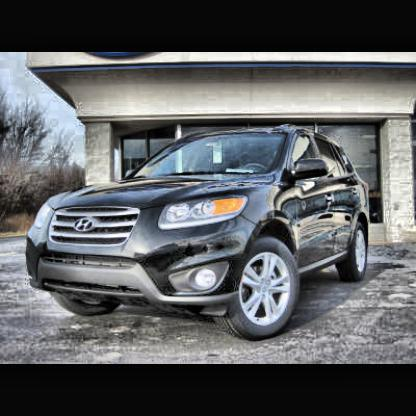Hyundai Santa Fe SUV 2012: (26, 131, 370, 340)
